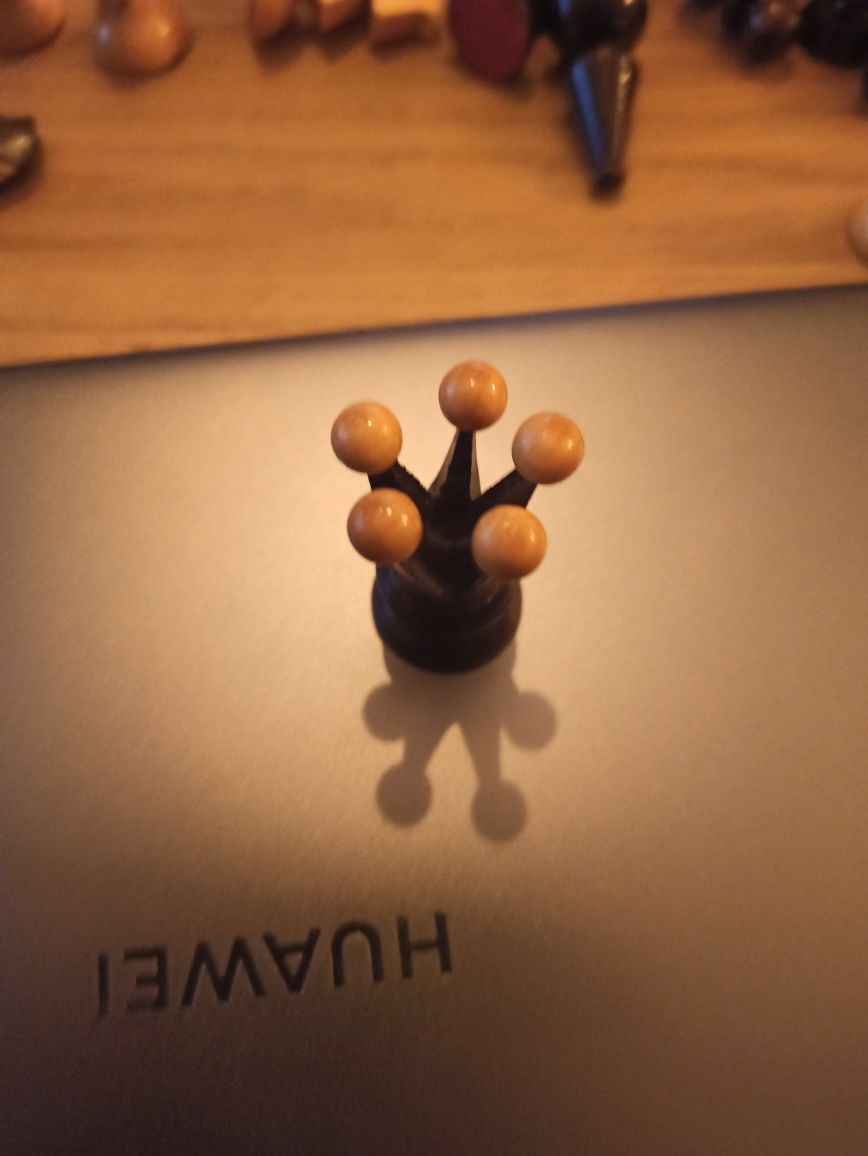bqueen: (330, 362, 583, 678)
